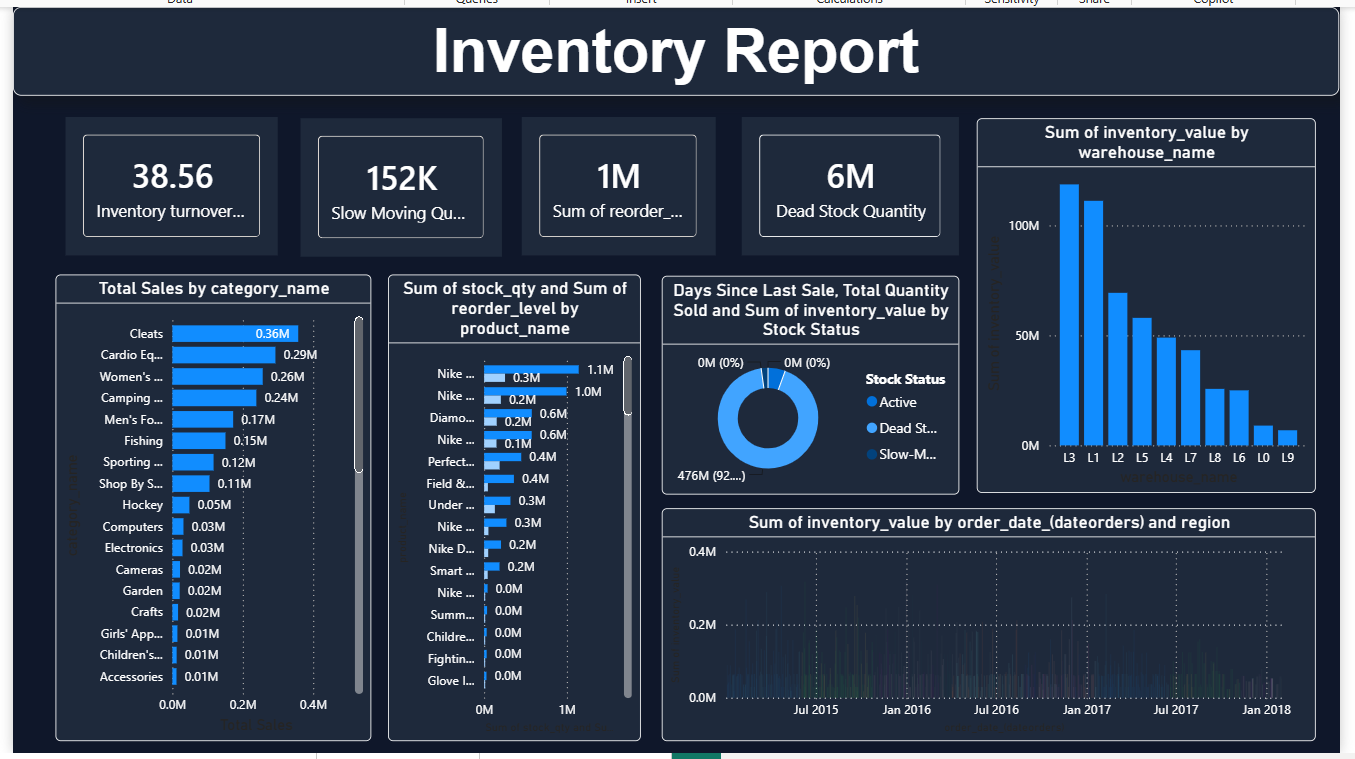

What the dashboard file says about the page in this screenshot:
{"tool":"powerbi","page":{"name":"Inventory report","canvas":[1280,720],"ordinal":1},"visuals":[{"type":"cardVisual","fields":{"Data":["Sum(fact_table.reorder_level)"]},"box":[675.6,106.2,229.2,133.9],"z":0},{"type":"cardVisual","fields":{"Data":["fact_table.Inventory turnover ratio"]},"box":[80,106.2,226.2,133.8],"z":1000},{"type":"cardVisual","fields":{"Data":["fact_table.Dead Stock Quantity"]},"box":[970,106.2,232.5,133.8],"z":2000},{"type":"cardVisual","fields":{"Data":["fact_table.Slow Moving Quantity"]},"box":[371.2,106.2,235,133.8],"z":3000},{"type":"donutChart","fields":{"Y":["fact_table.Days Since Last Sale","fact_table.Total Quantity Sold","Sum(fact_table.inventory_value)"],"Category":["fact_table.Stock Status"]},"box":[970,258.2,287.1,211.1],"z":4000},{"type":"clusteredColumnChart","fields":{"Category":["fact_table.order_date_(dateorders)"],"Series":["fact_table.region"],"Y":["Sum(fact_table.inventory_value)"]},"box":[626.2,483.8,631.2,225],"z":5000},{"type":"barChart","fields":{"Y":["fact_table.Total Sales"],"Category":["fact_table.category_name"]},"box":[41.2,258.8,305,450],"z":6000},{"type":"clusteredBarChart","fields":{"Y":["Sum(fact_table.stock_qty)","Sum(fact_table.reorder_level)"],"Category":["fact_table.product_name"]},"box":[362.5,258.8,243.8,450],"z":7000},{"type":"columnChart","fields":{"Y":["Sum(fact_table.inventory_value)"],"Category":["fact_table.warehouse_name"]},"box":[626.1,258.2,326.9,211.1],"z":8000},{"type":"textbox","box":[0,0,1280,85.7],"z":9000}]}

Visuals, with their boxes on the page's 1280x720 design canvas (x1, y1, x2, y2). These are canvas units, not pixel positions in the 1355x759 screenshot, which may show the page scaled, cropped or inside an application window:
cardVisual - Sum(fact_table.reorder_level): 676:106:905:240
cardVisual - fact_table.Inventory turnover ratio: 80:106:306:240
cardVisual - fact_table.Dead Stock Quantity: 970:106:1202:240
cardVisual - fact_table.Slow Moving Quantity: 371:106:606:240
donutChart - fact_table.Days Since Last Sale x fact_table.Total Quantity Sold: 970:258:1257:469
clusteredColumnChart - fact_table.order_date_(dateorders) x fact_table.region: 626:484:1257:709
barChart - fact_table.Total Sales x fact_table.category_name: 41:259:346:709
clusteredBarChart - Sum(fact_table.stock_qty) x Sum(fact_table.reorder_level): 362:259:606:709
columnChart - Sum(fact_table.inventory_value) x fact_table.warehouse_name: 626:258:953:469
textbox: 0:0:1280:86
